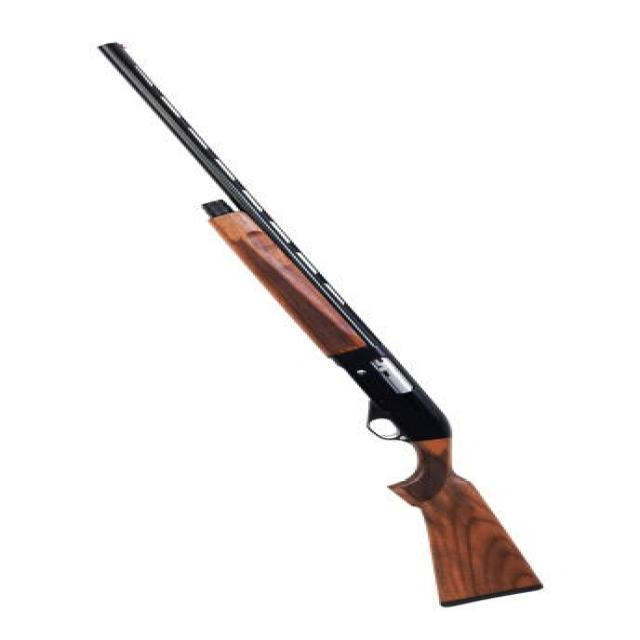rifle: (84, 34, 554, 620)
